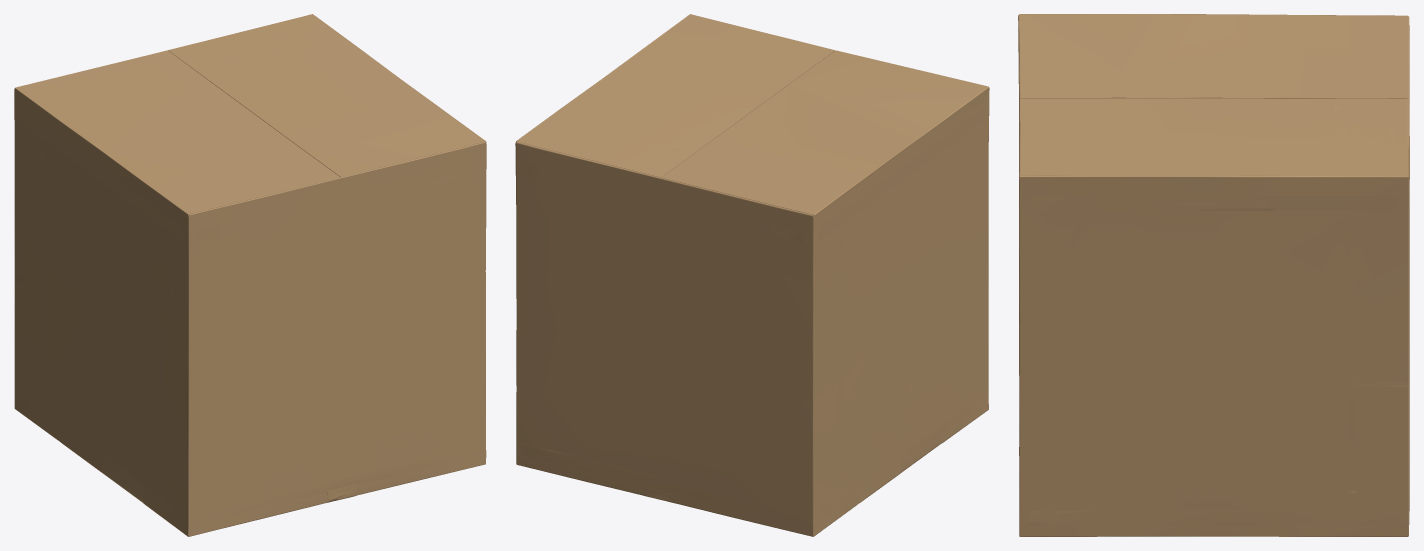
The model's file is box_corrugated_brown_b10.glb.
3 views of the same model, side by side, from view 1: azimuth 30°, elevation 25°; view 2: azimuth 150°, elevation 25°; view 3: azimuth 270°, elevation 25° (orthographic). The views are drawn at different scales.
Size of the model in its own units: 0.4031 by 0.4168 by 0.4092.
